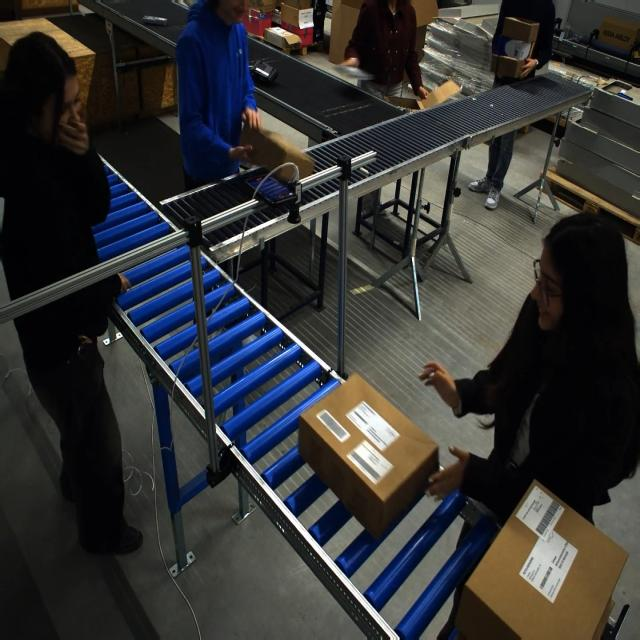box: (453, 480, 629, 639), (302, 379, 430, 539), (236, 114, 314, 181)
